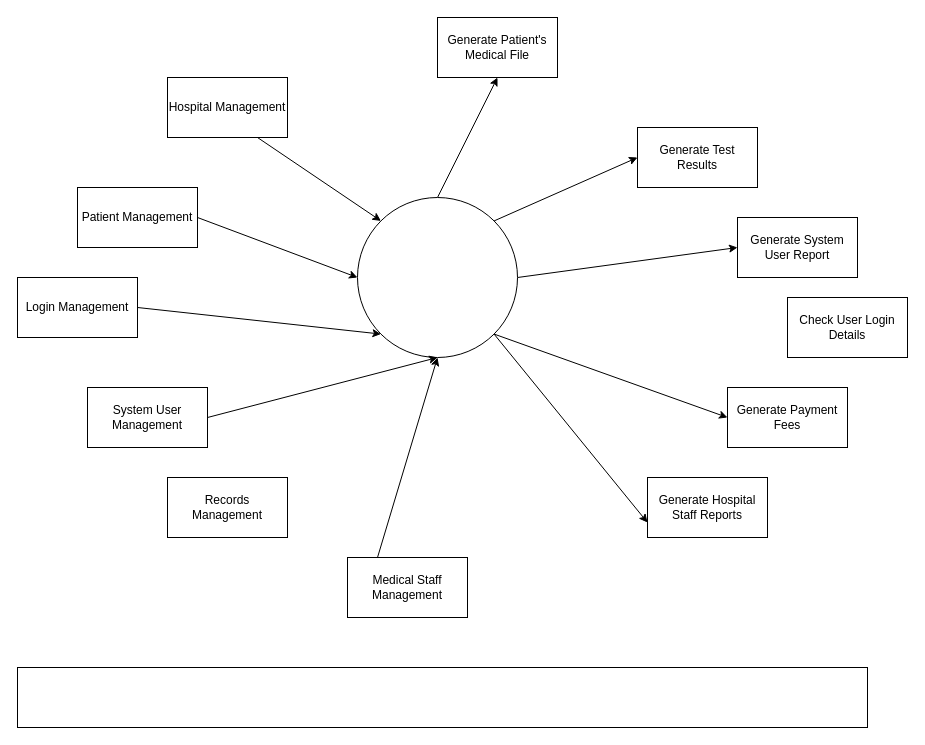
Some shapes in this 925 by 745 pixel diagram are drawn without their labels. Each missing label, with the centre of its shape:
FIRST LEVEL DFD: the point at 442,697
Hospital Management System: the point at 437,277
